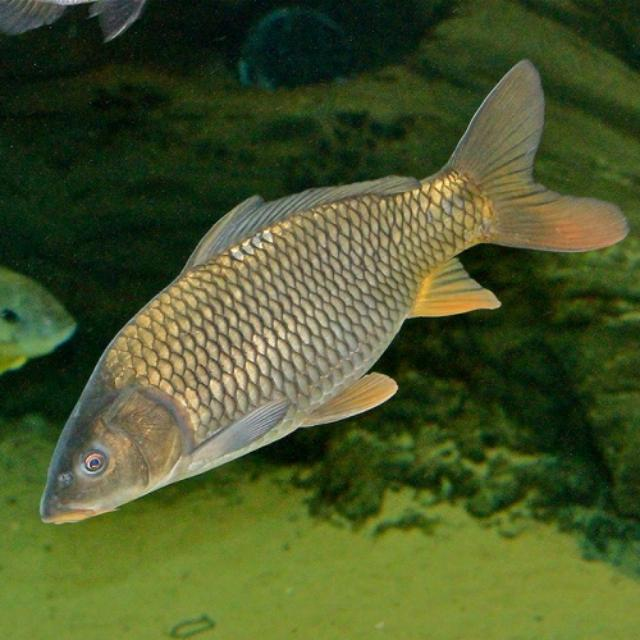Mulut: (30, 481, 119, 562)
Sirip Anal: (405, 258, 517, 328)
Sirip Dada: (184, 389, 292, 486)
Sirip Ekor: (450, 46, 634, 270)
Sirip Perut: (308, 366, 408, 442)
Sirip Punggung: (175, 165, 421, 278)
